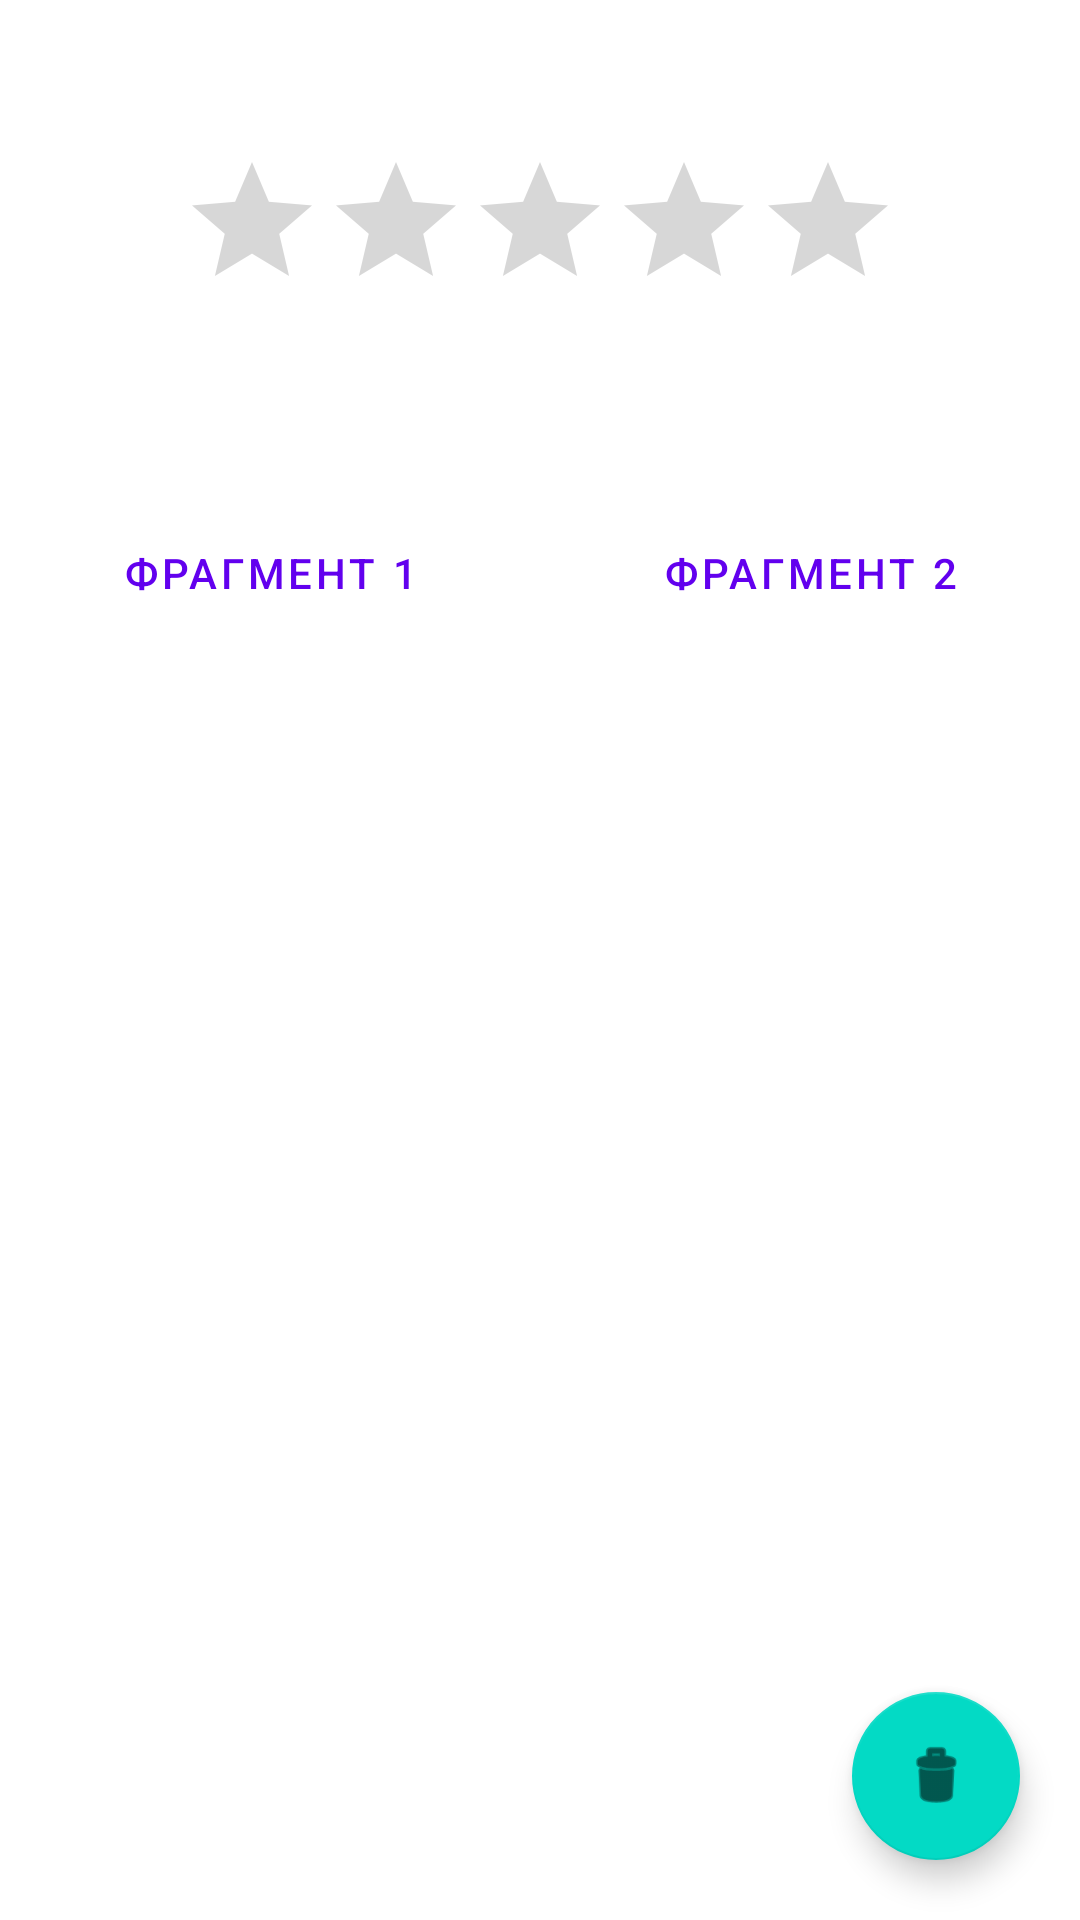

Screen size 1080×1920. Icon name, then its box in pixels as (left=x1, top=y1, right=x2, bottom=y2):
delete: (left=852, top=1692, right=1020, bottom=1860)
